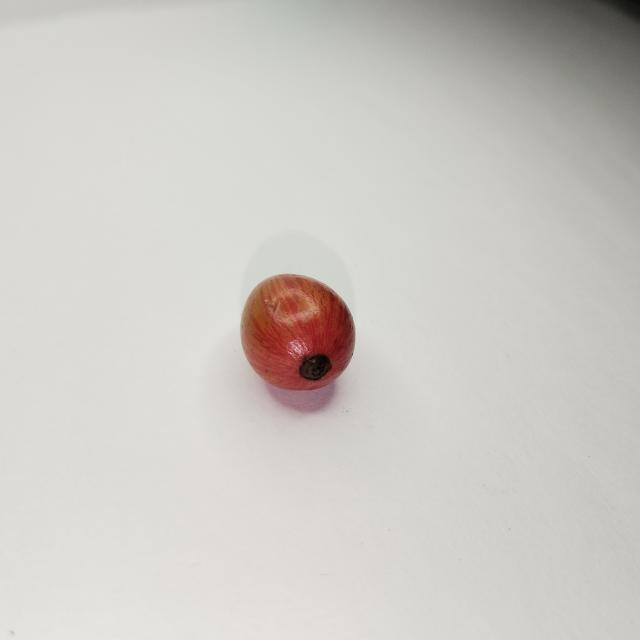Infectado: (241, 275, 358, 394)
